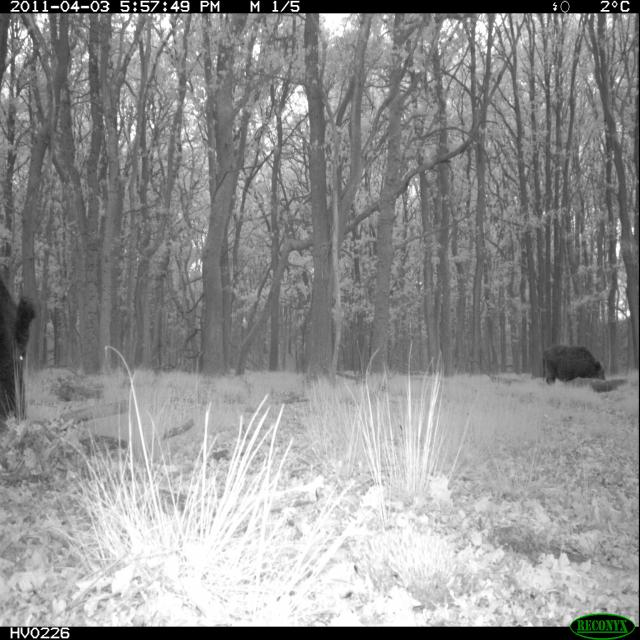boar: (0, 256, 55, 462), (514, 320, 622, 413)
